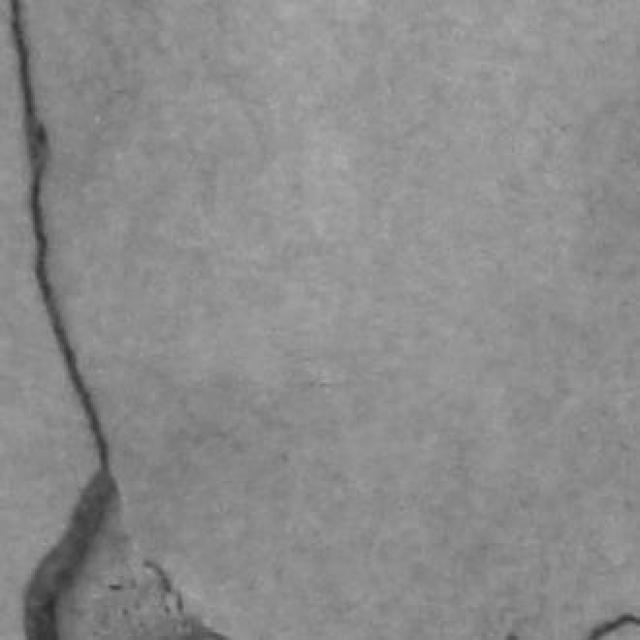crack: (10, 0, 118, 639), (10, 0, 116, 639), (10, 0, 108, 467), (586, 613, 639, 639)
